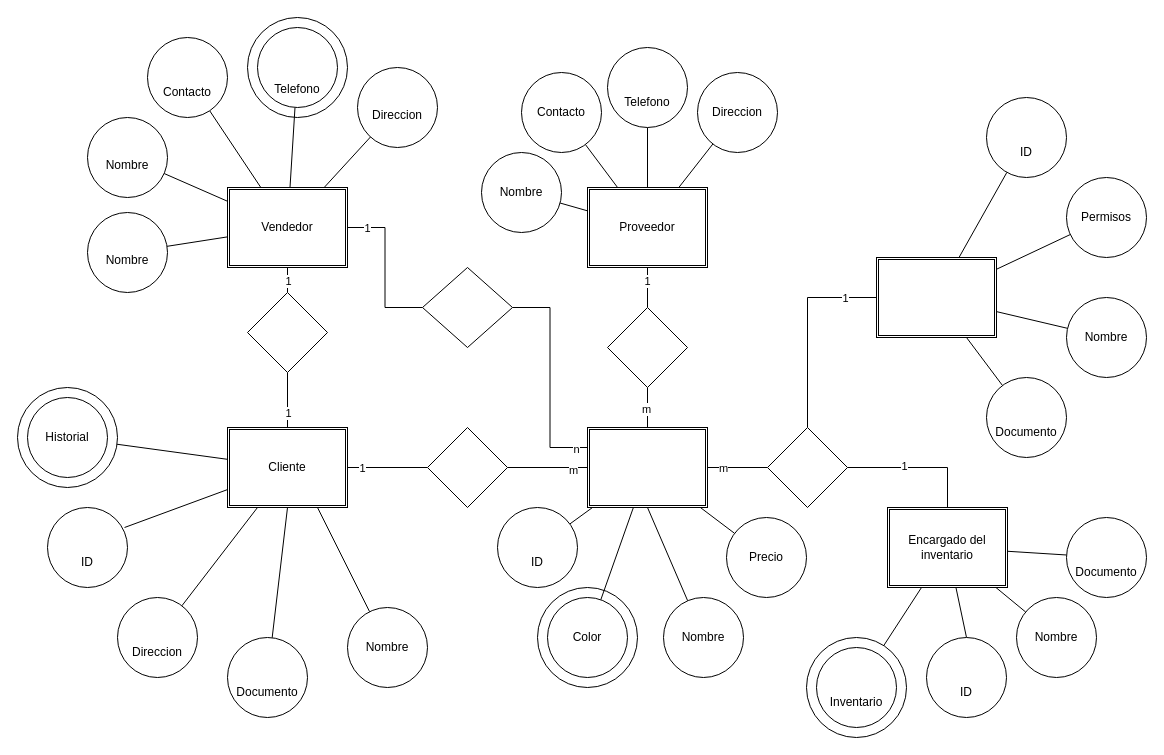
This 1164x755 diagram has some shape labels left out. The shapes that lost their labels are listed below. From the top down, each one's centre as x and y in pixels, then its label:
point (467, 307): Consulta
point (936, 297): Gerente
point (287, 332): Busca
point (647, 347): Suministra
point (467, 467): Compra
point (647, 467): Producto
point (807, 467): Supervisa
